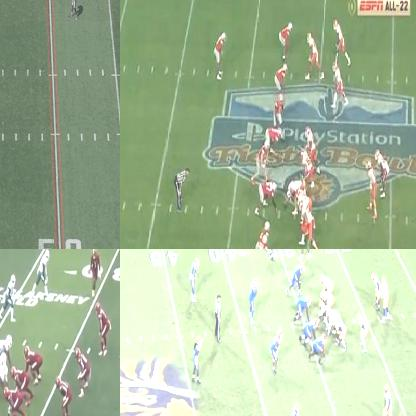CENTER: (284, 180, 304, 207), (318, 298, 330, 324), (0, 365, 8, 387)
DB: (212, 33, 226, 78), (272, 63, 288, 96), (278, 22, 291, 58), (89, 249, 102, 282), (189, 258, 199, 298), (193, 336, 201, 382), (71, 0, 80, 19), (290, 401, 299, 415), (266, 249, 278, 256)
LB: (254, 139, 270, 182), (57, 375, 73, 415), (98, 302, 110, 354), (76, 349, 89, 396), (271, 331, 281, 372), (250, 281, 259, 324), (274, 96, 284, 129), (255, 236, 271, 248)
QB: (366, 159, 378, 215), (382, 274, 392, 320)
SKILL: (306, 33, 324, 81), (332, 20, 351, 64), (332, 61, 349, 107), (4, 280, 18, 324), (382, 381, 396, 415), (377, 150, 389, 186), (356, 314, 367, 352), (40, 250, 50, 285), (372, 273, 380, 308), (298, 249, 310, 258)
